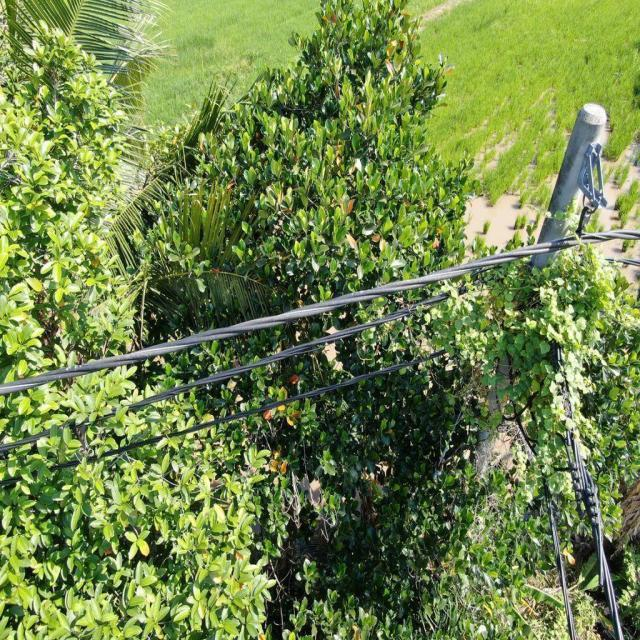critical vegetation: (401, 220, 598, 477)
